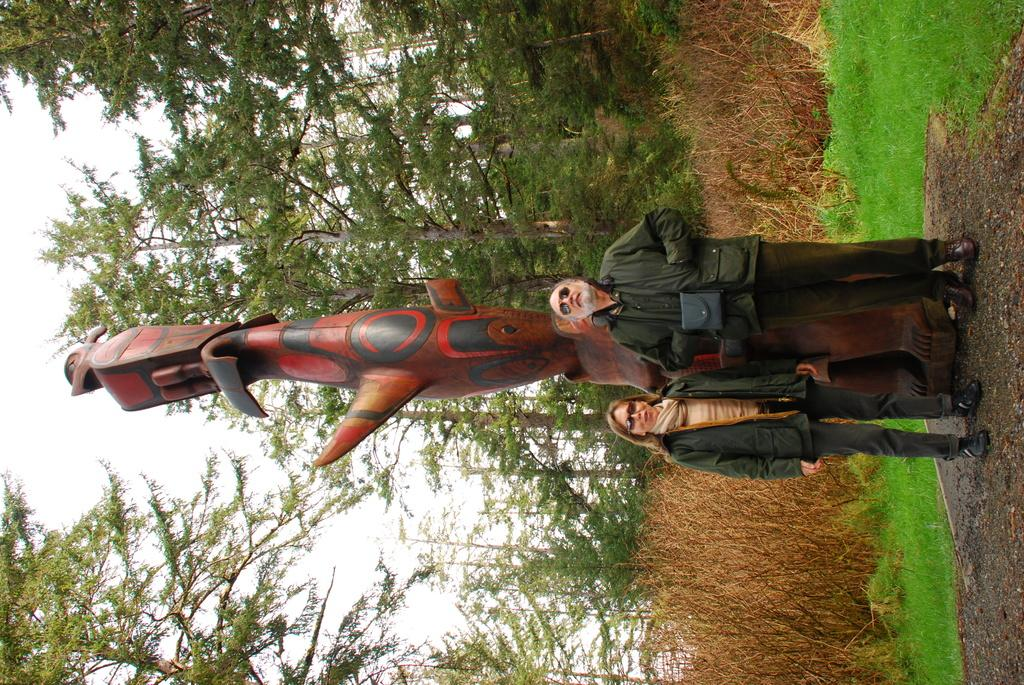Rifle: (44, 281, 673, 476)
